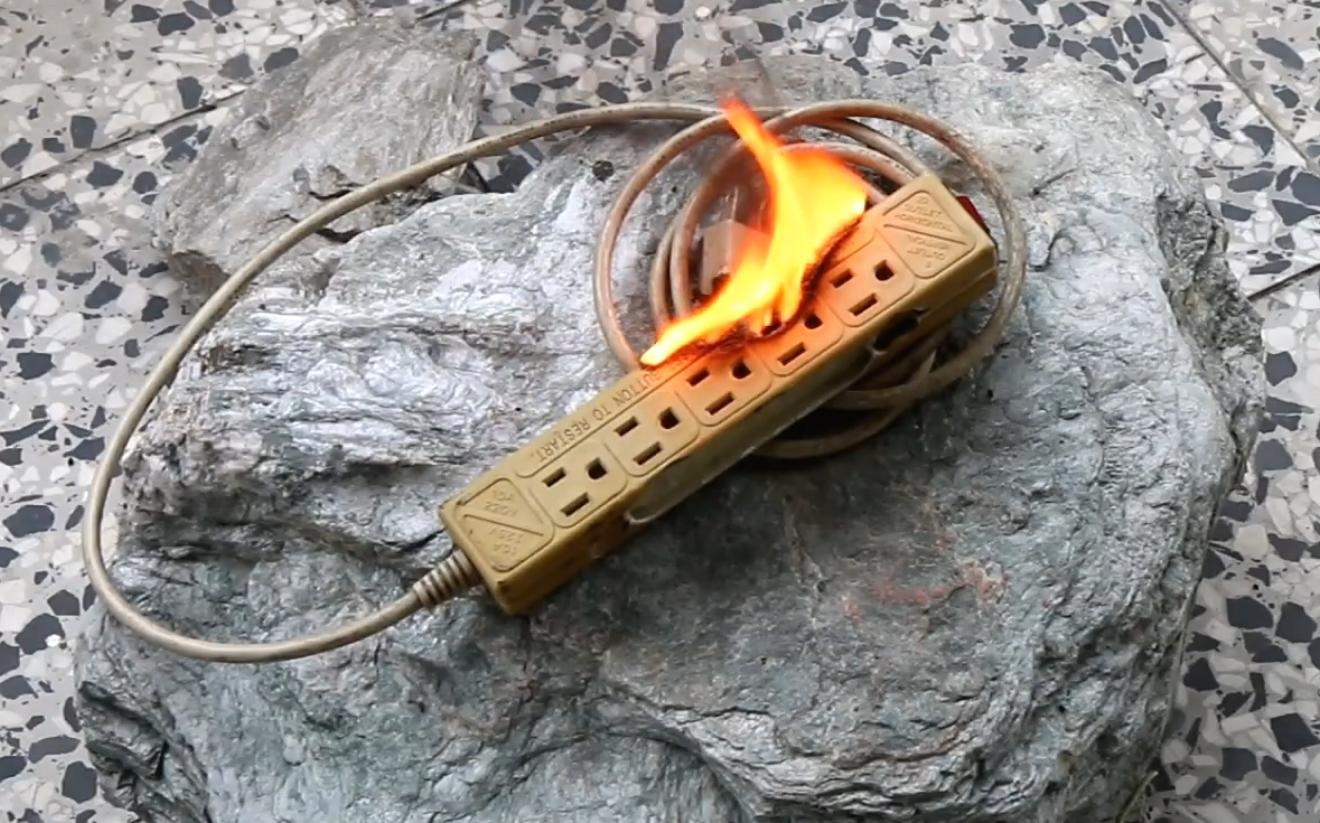fire: (623, 94, 878, 368)
